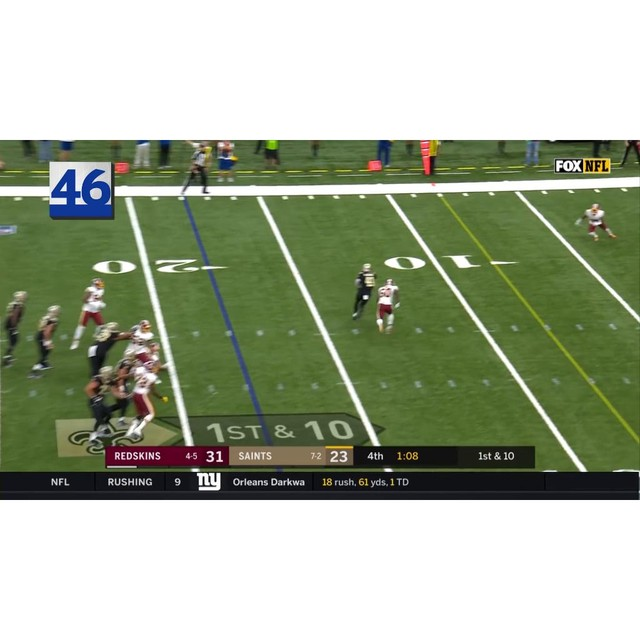american-football-player: (122, 363, 167, 443), (70, 277, 108, 348), (86, 321, 132, 377), (29, 304, 62, 373), (0, 292, 29, 365), (575, 203, 617, 242), (87, 390, 117, 444), (352, 262, 377, 320), (376, 277, 401, 334)
referee: (179, 144, 212, 198)
